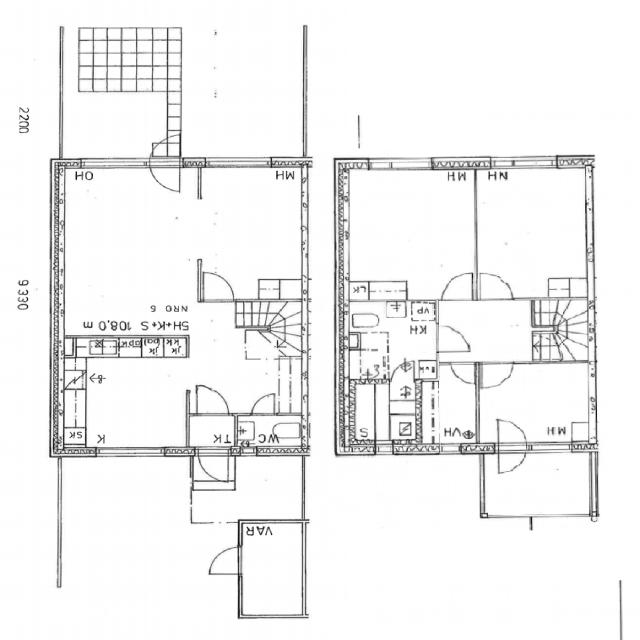door: (482, 448, 594, 518), (488, 415, 530, 477), (147, 143, 182, 196), (188, 382, 236, 419), (195, 268, 237, 306), (204, 543, 244, 582), (194, 448, 233, 484), (475, 268, 515, 303), (478, 358, 517, 392), (434, 322, 473, 356), (439, 268, 476, 303), (446, 360, 478, 386), (250, 391, 279, 418), (391, 364, 416, 384)
window: (359, 152, 435, 173), (484, 152, 561, 172), (93, 444, 171, 462), (76, 156, 149, 175), (201, 154, 275, 172), (528, 441, 582, 456)
zone: (45, 445, 236, 640), (52, 164, 201, 341), (173, 7, 301, 165), (338, 166, 477, 298), (474, 164, 593, 300), (202, 164, 307, 304), (57, 351, 190, 453), (483, 362, 597, 451), (480, 451, 596, 518), (239, 522, 306, 622), (341, 302, 436, 368), (421, 362, 478, 450), (338, 371, 385, 456), (232, 415, 306, 456)
